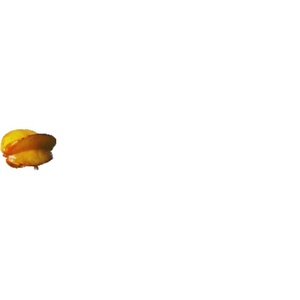carambola: (1, 130, 57, 171)
